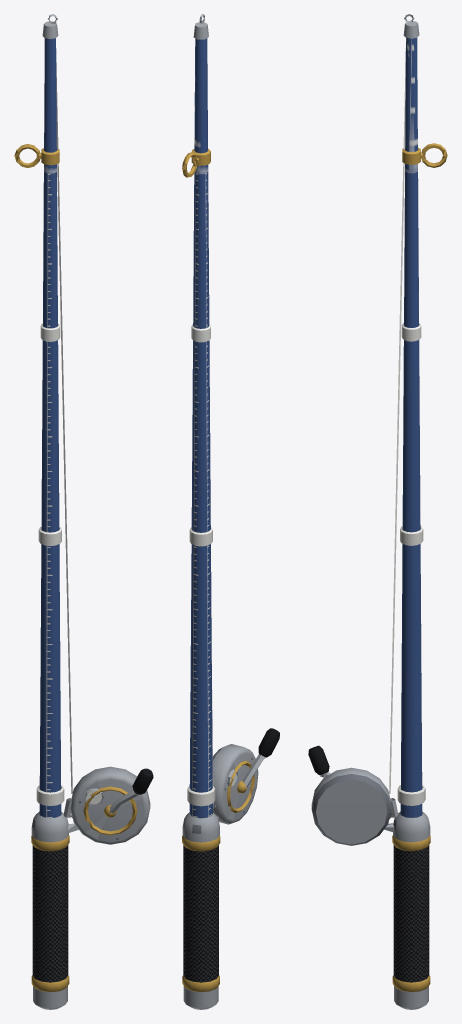
File: rod-precision.glb
The picture shows the model from 3 angles, left to right: view 1: azimuth 90°, elevation 25°; view 2: azimuth 150°, elevation 25°; view 3: azimuth 270°, elevation 25°; orthographic projection.
Visible parts, largest first — view 1: rod-precision; view 2: rod-precision; view 3: rod-precision.
Part boxes in pixels (x1=…): rod-precision: x1=14, y1=14, x2=153, y2=1009; rod-precision: x1=182, y1=14, x2=279, y2=1009; rod-precision: x1=308, y1=14, x2=447, y2=1009.
Bounding box in the file's own units: 0.0472 × 0.9479 × 0.1207.
Materials: 5 (2 with a texture image).
